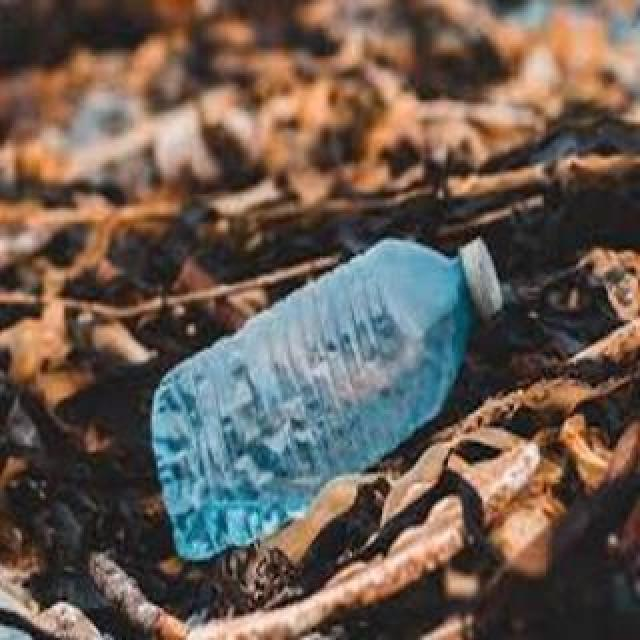Pet_Bottle: (149, 230, 505, 566)
